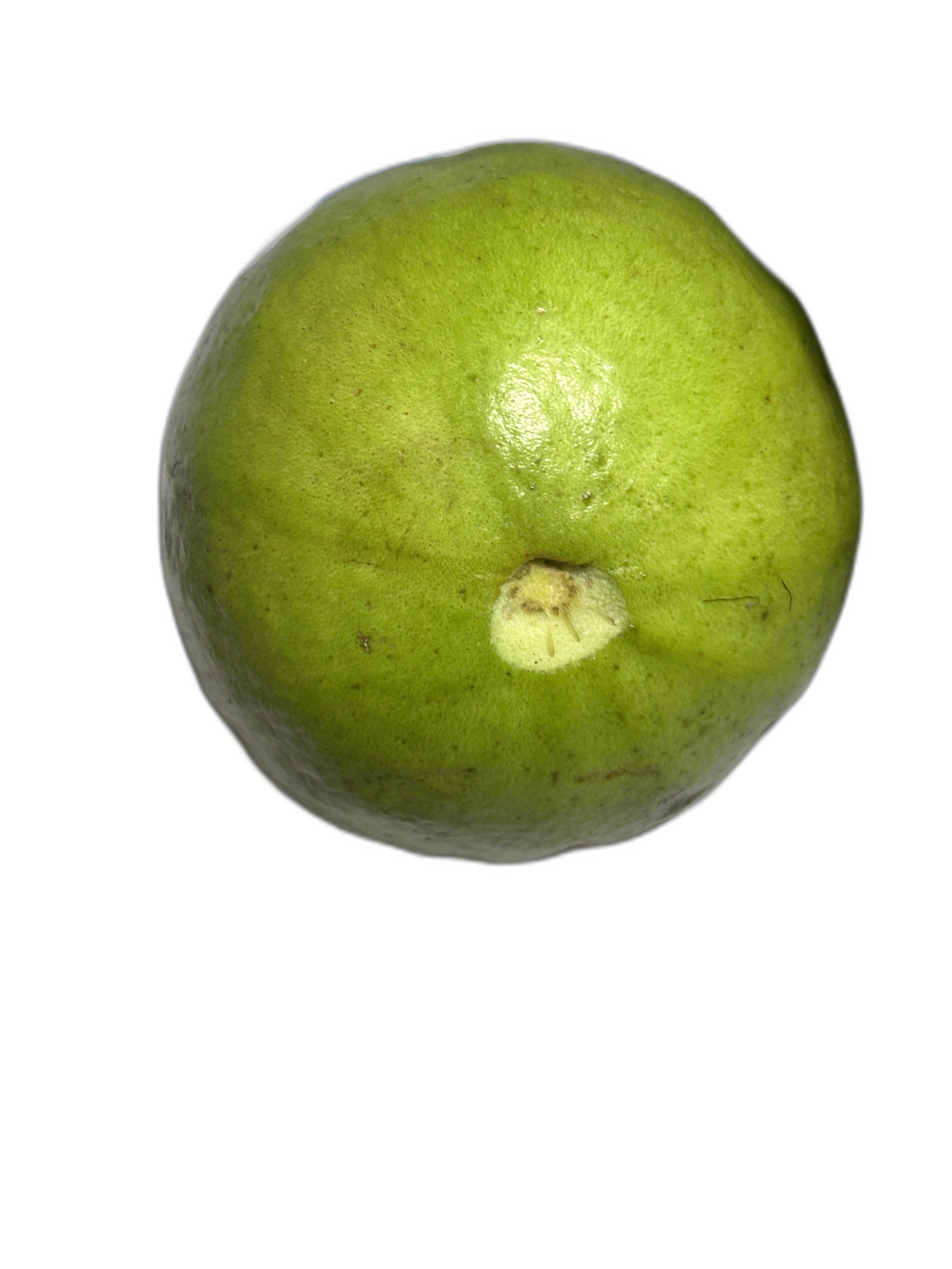guava: (113, 164, 836, 941)
